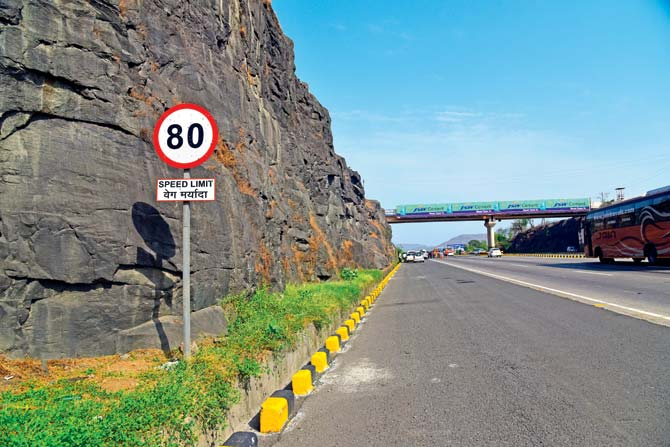Speed_limit_80km: (153, 103, 218, 168)
